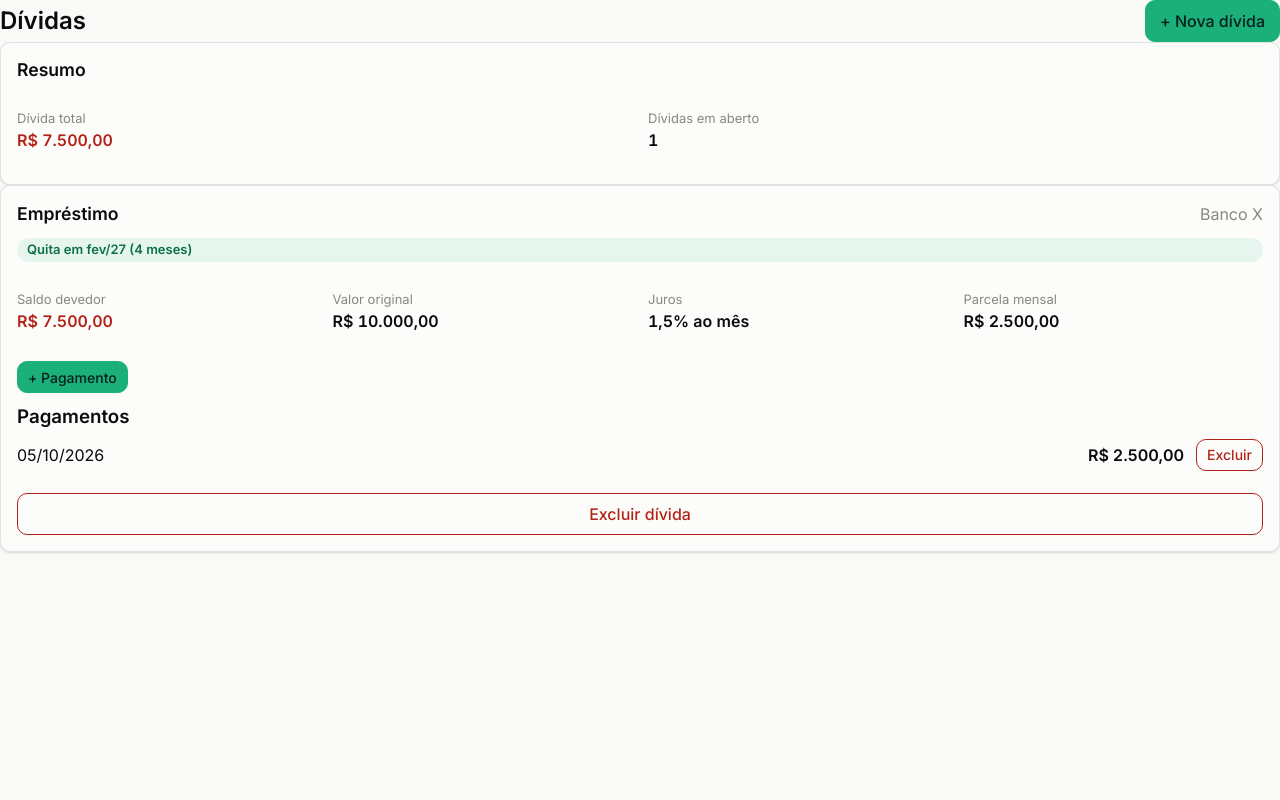
Scenario: DebtsPage › saves a new debt from the modal, closes it and lists the debt (AC-U7)
Click the button "+ Nova dívida" at (1212, 21), box [1145,0,1279,42]
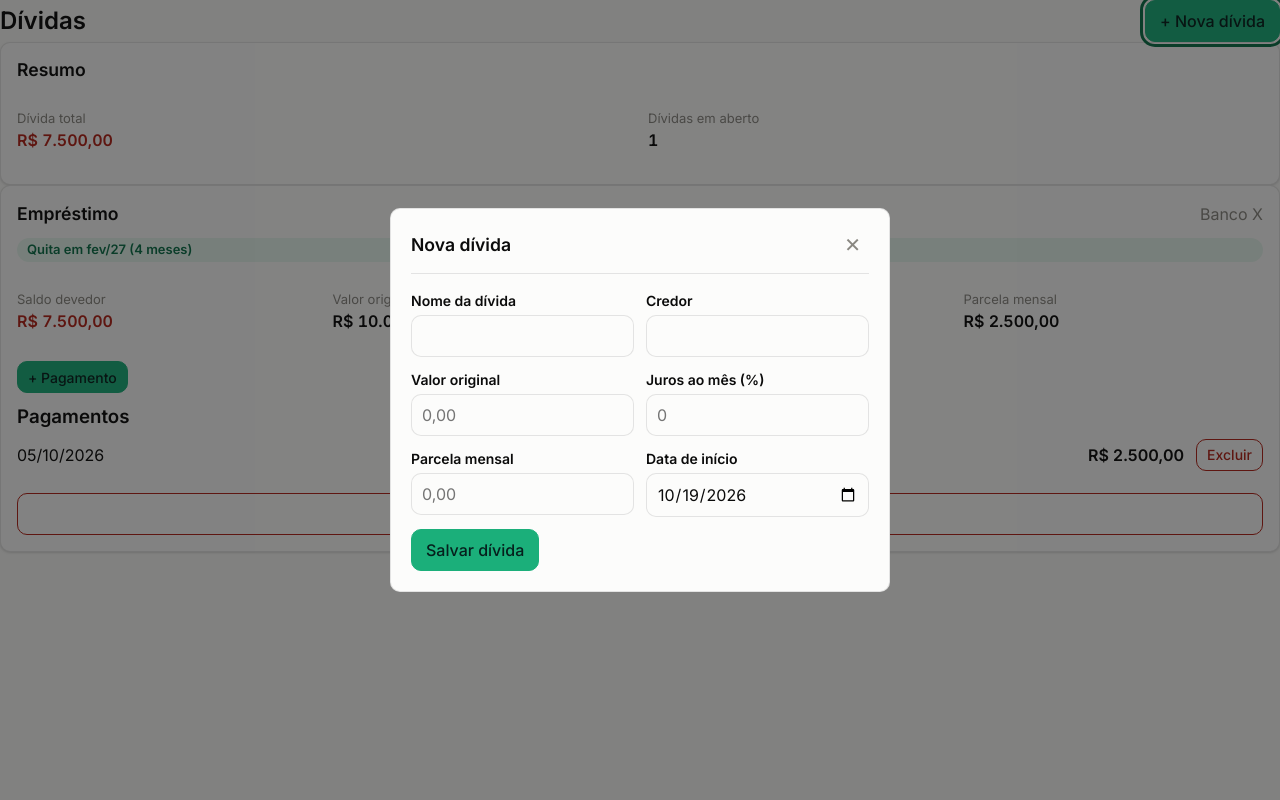
Type "Cartão" into the field labelled "Nome da dívida" at (522, 336), box [411,315,634,357]
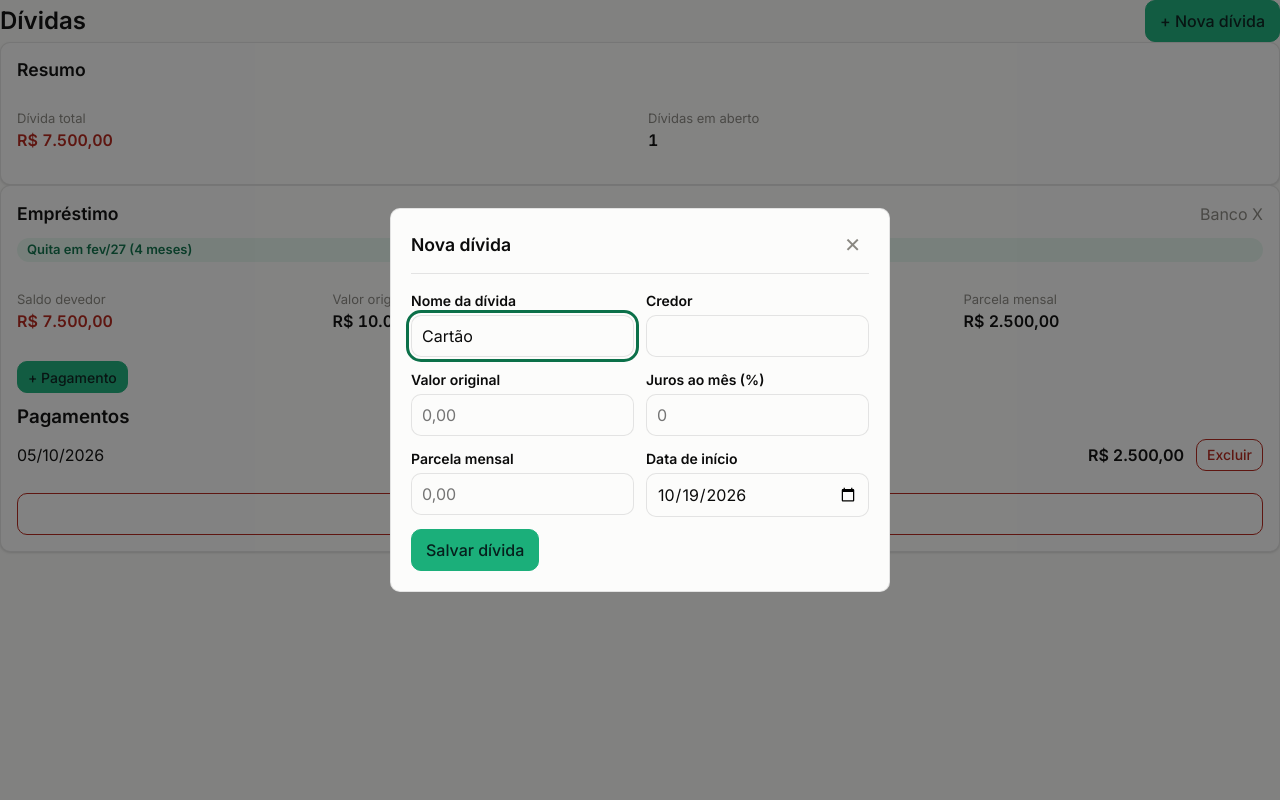
Type "300" into the field labelled "Valor original" at (522, 415), box [411,394,634,436]
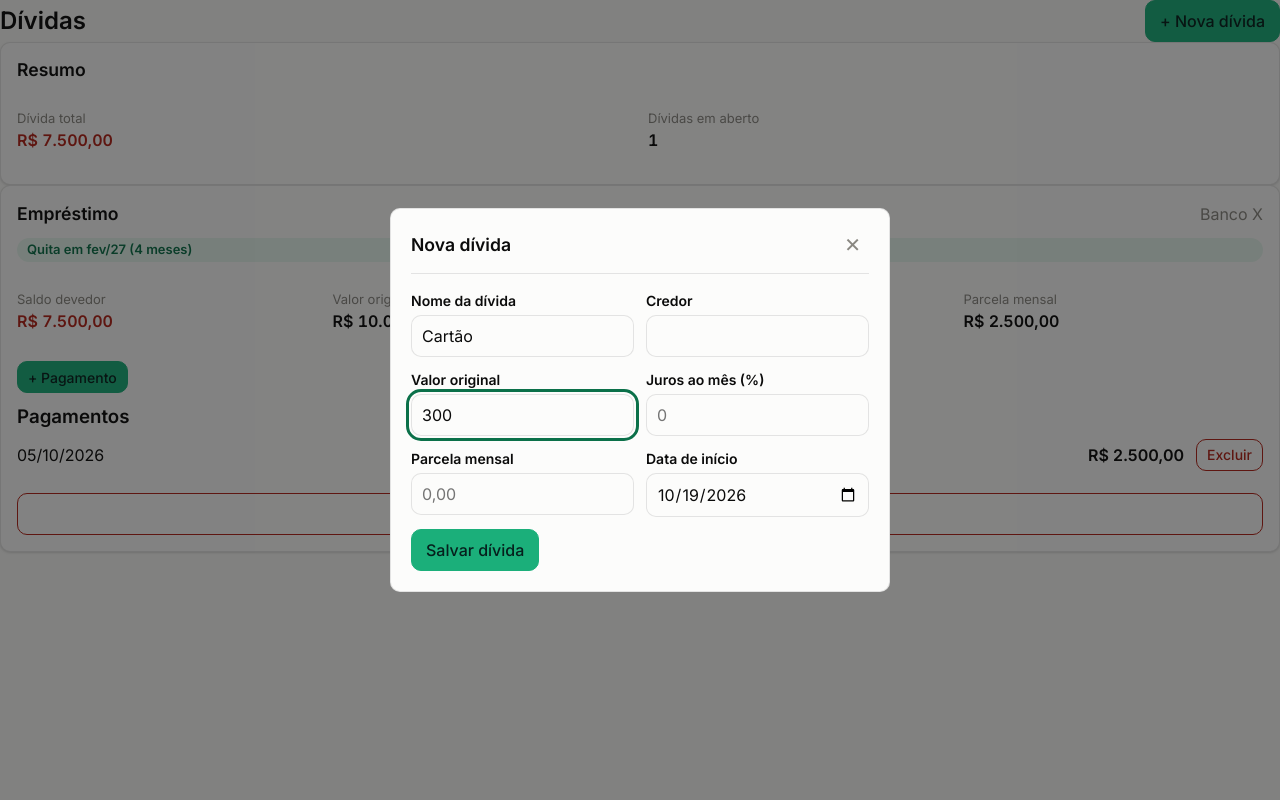
Click the button "Salvar dívida" at (475, 550), box [411,529,539,571]
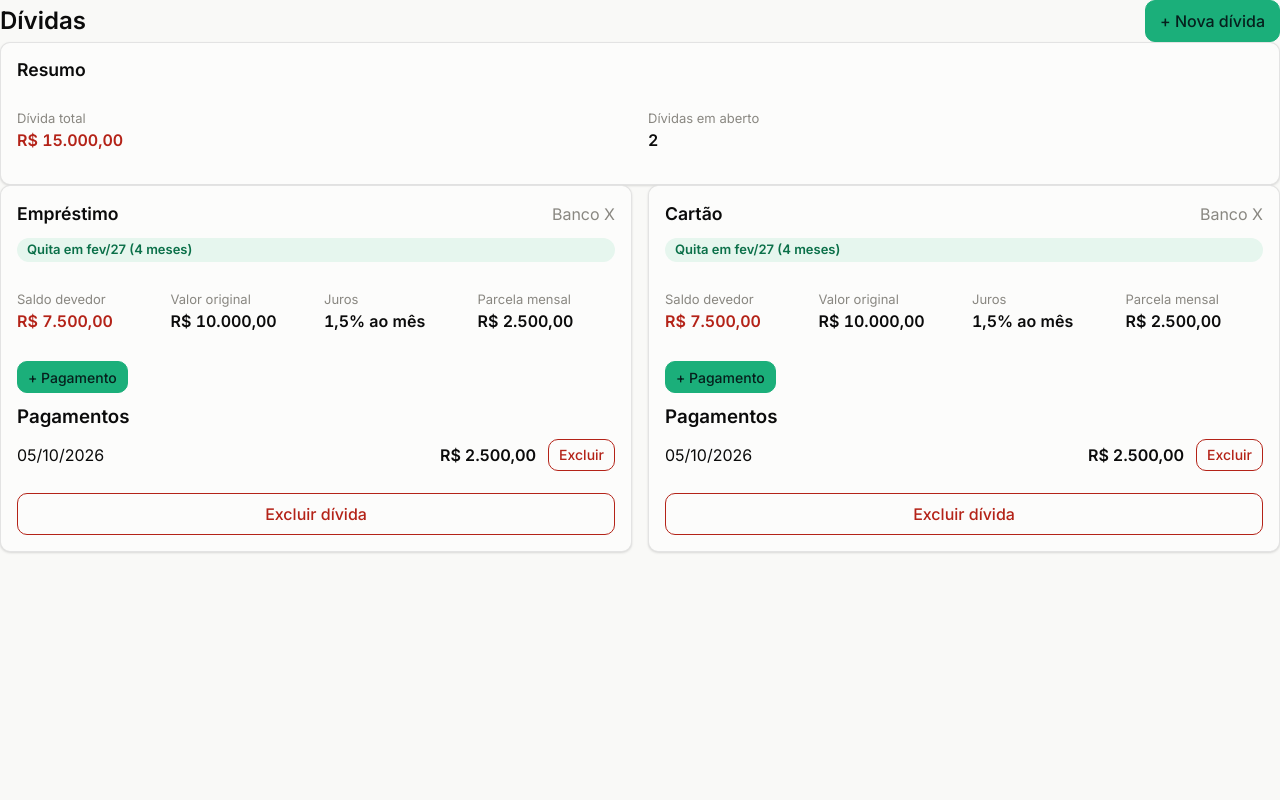
Now the dialog is gone
Now the element "Cartão" is shown, box [648,186,1279,552]
